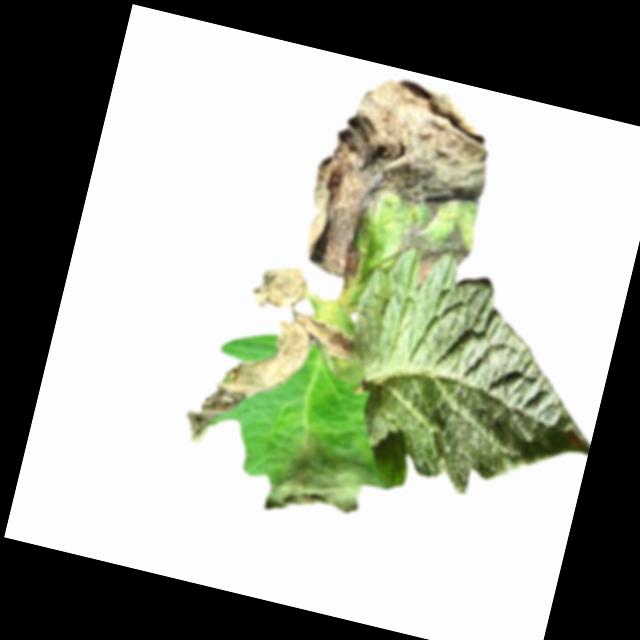Late_blight: (292, 61, 510, 310), (177, 288, 363, 474), (262, 430, 396, 536), (248, 257, 319, 320), (314, 277, 364, 322)
healthy: (321, 236, 624, 522)
